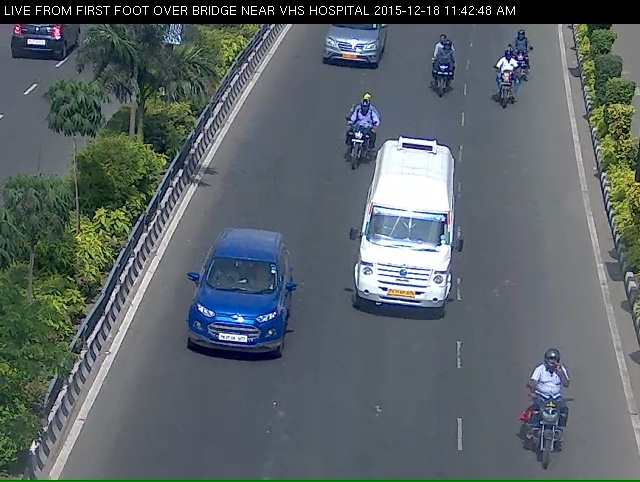Bus: (348, 142, 473, 346)
Car: (174, 247, 304, 398), (314, 19, 385, 75)
Person: (525, 383, 584, 482), (328, 104, 360, 187), (429, 42, 453, 118), (507, 32, 538, 88), (491, 67, 517, 122)
